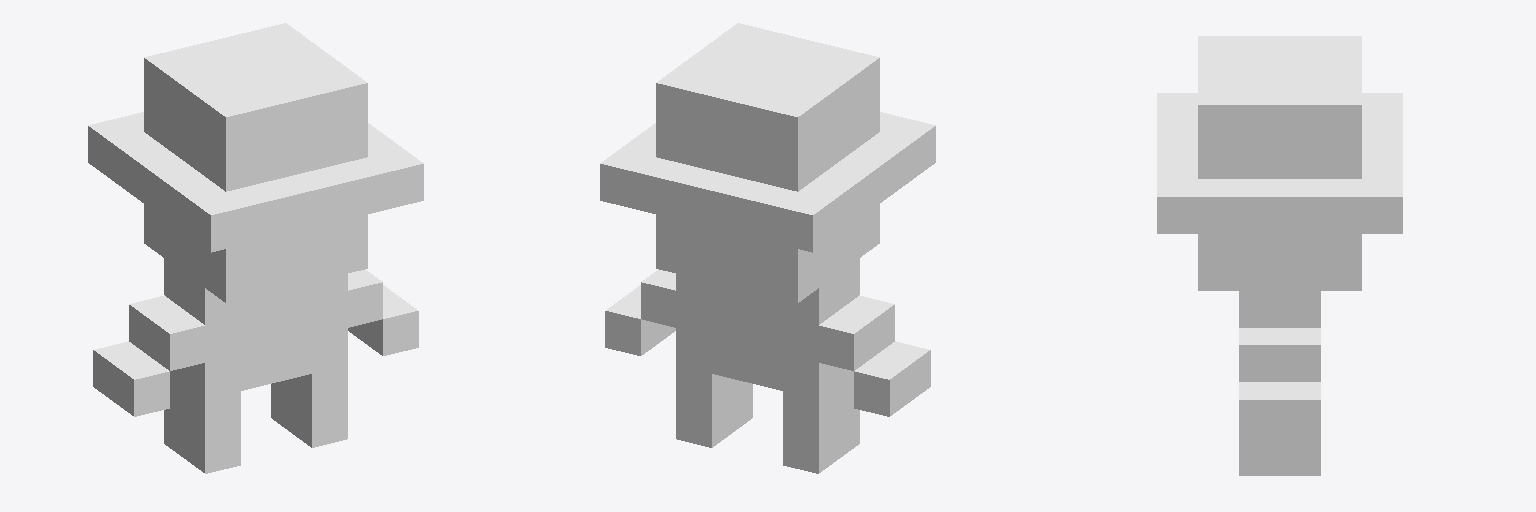
The model's file is player3.obj.
The picture shows the model from 3 angles: view 1: azimuth 30°, elevation 25°; view 2: azimuth 150°, elevation 25°; view 3: azimuth 270°, elevation 25°; orthographic projection.
Parts seen in each view (by area): view 1: object 1; view 2: object 1; view 3: object 1.
Part boxes in pixels (left/top/right/bottom): object 1: left=88, top=23, right=423, bottom=473; object 1: left=600, top=23, right=935, bottom=473; object 1: left=1157, top=36, right=1402, bottom=475.
Size of the model in its own units: 0.8 by 1 by 0.6.